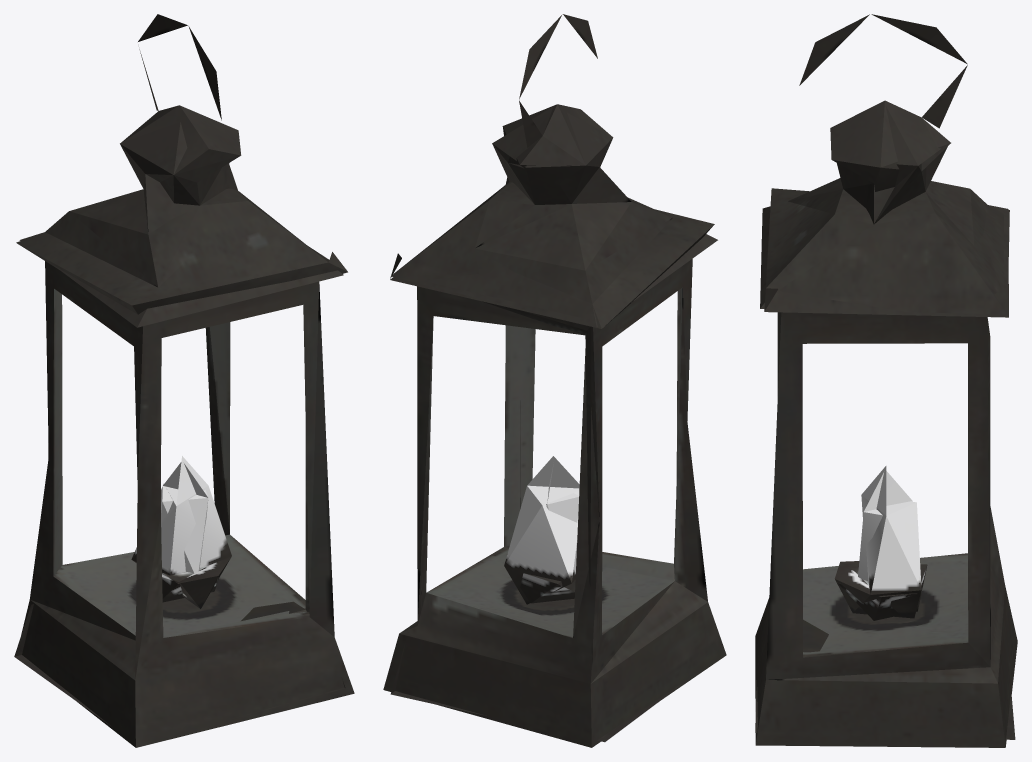
The model's file is lantern_lod0.glb.
3 renders of one model, left to right at view 1: azimuth 30°, elevation 25°; view 2: azimuth 150°, elevation 25°; view 3: azimuth 270°, elevation 25°, orthographic. The views are drawn at different scales.
Parts seen in each view (by area): view 1: low; view 2: low; view 3: low.
Part boxes in pixels (box(x1,y1,x2,y2)): low: box(14, 14, 354, 747); low: box(383, 14, 726, 747); low: box(755, 14, 1017, 747).
Size of the model in its own units: 0.2113 by 0.5975 by 0.2097.
1 material, 1 textured.
